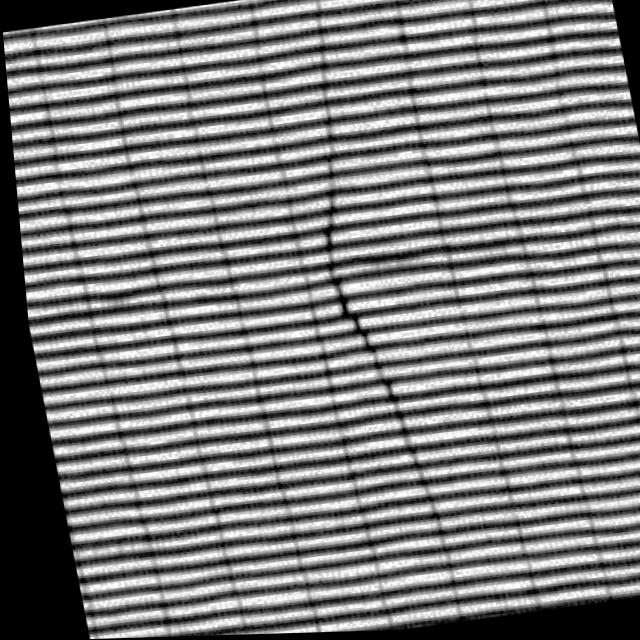Stitch: (265, 119, 433, 470)
